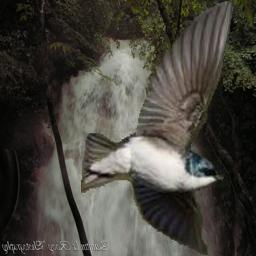Swallow: (81, 0, 234, 256)
